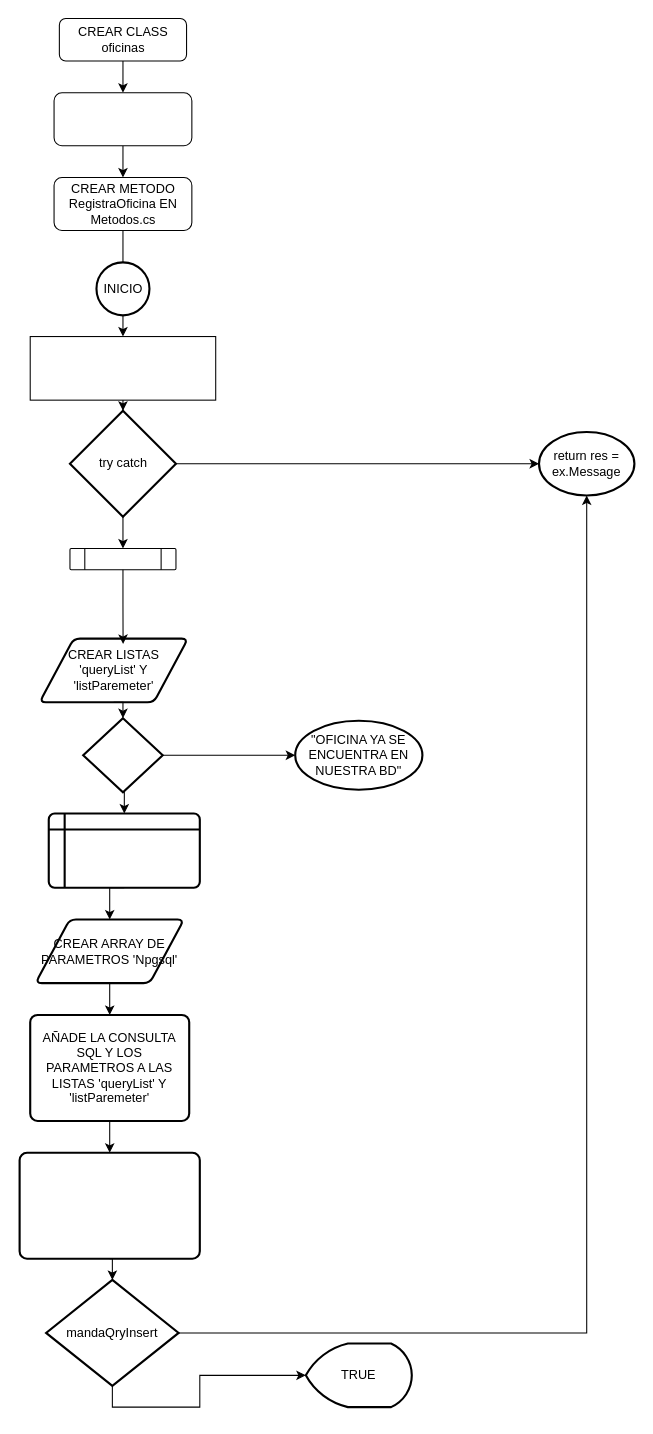
The diagram is 653 pixels wide and 1434 high, and some of its shapes have lost their labels. The centre of each missing label's shape, as x and y in pixels:
buscarOficina.Length <= 2: point (122, 755)
CREAR METODO POST Insertar_Oficinas: point (122, 119)
INSERT INTO office_location: point (123, 850)
LLAMA A LA FUNCION 'mandaQryInsert' CON LA CONSULTA Y PARAMETROS: point (109, 1205)
res = "", version = 0, dateCreated = DateTime.Now lastUpdate = DateTime.Now: point (122, 367)
validarOficinaRegistrada(id, name, address): point (122, 558)
